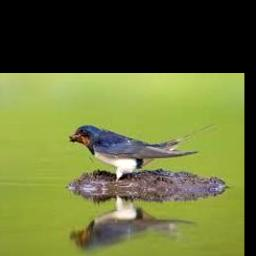Swallow: (70, 124, 217, 181)
